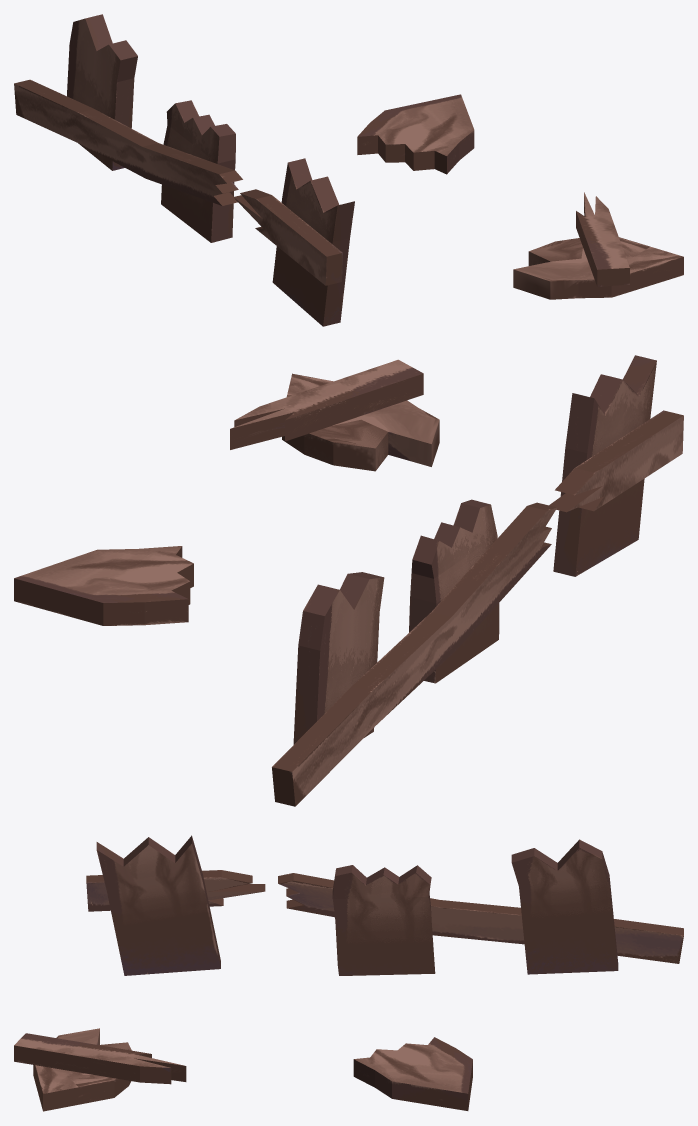
The model's file is BrokenFence.fbx.
3 views of the same model, one above another, from view 1: azimuth 30°, elevation 25°; view 2: azimuth 150°, elevation 25°; view 3: azimuth 270°, elevation 25° (orthographic). The views are drawn at different scales.
Visible parts, largest first — view 1: Cube; view 2: Cube; view 3: Cube.
Part boxes in pixels (x1,y1,x2,y2): Cube: (14,14,683,326); Cube: (14,355,683,806); Cube: (14,835,683,1111).
Bounding box in the file's own units: 205 × 80.91 × 371.
